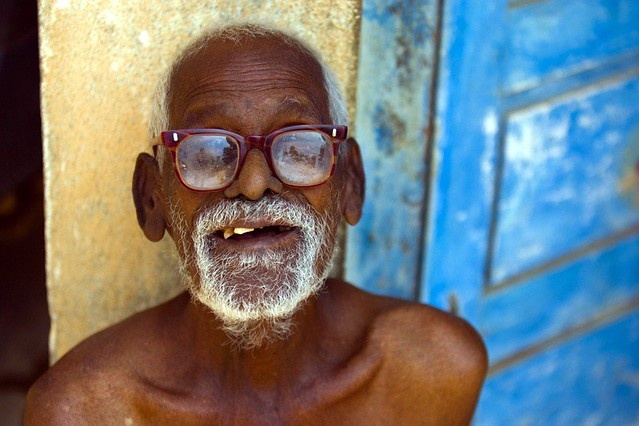without_mask: (135, 41, 357, 330)
